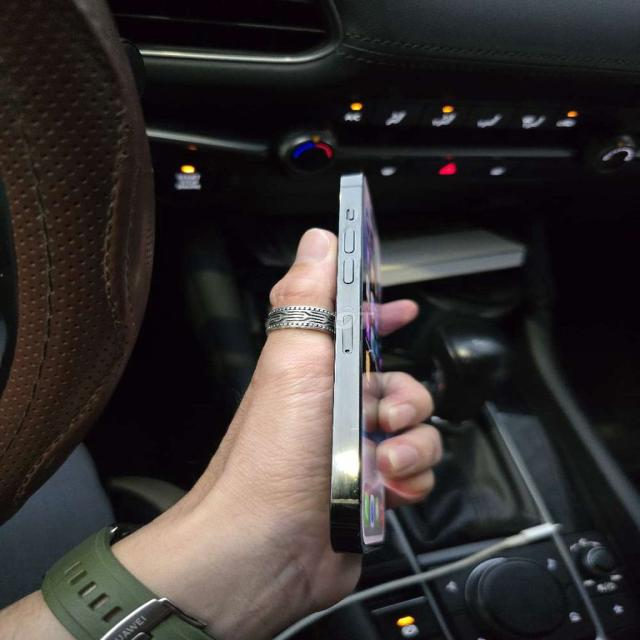scratch: (328, 461, 371, 514)
